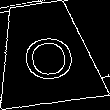O_N: (16, 25, 76, 82)
